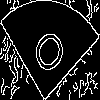O: (25, 25, 69, 85)
